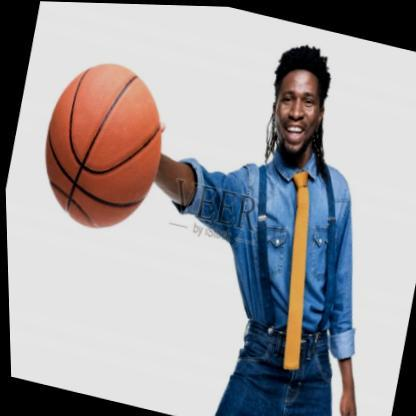basketball: (28, 50, 177, 240)
